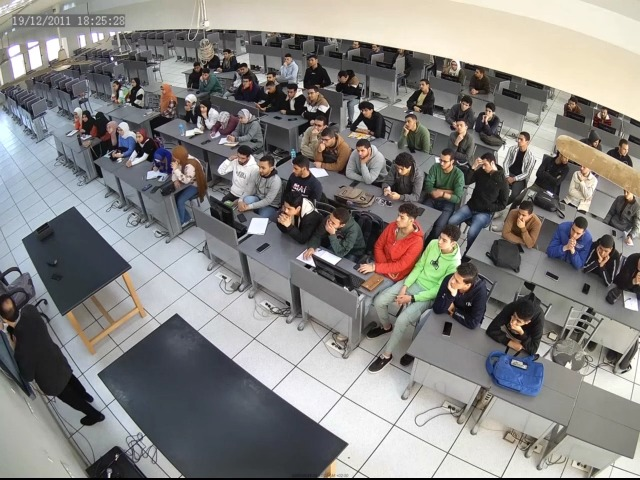phone: (476, 341, 548, 410), (543, 261, 564, 288), (439, 319, 464, 339), (252, 240, 271, 261), (142, 181, 160, 198), (374, 193, 393, 209), (443, 119, 459, 136), (412, 202, 428, 218), (237, 210, 249, 225), (348, 179, 363, 190), (285, 113, 297, 126), (404, 141, 416, 154), (271, 113, 286, 123)
zuobi: (169, 147, 199, 176)
